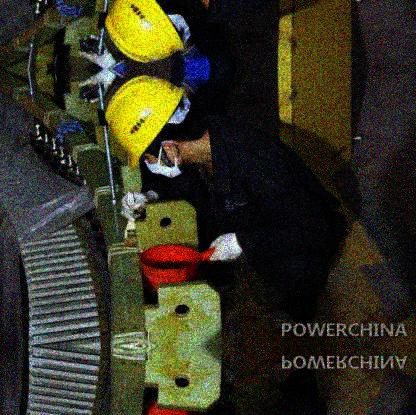helmet: (105, 74, 205, 177)
